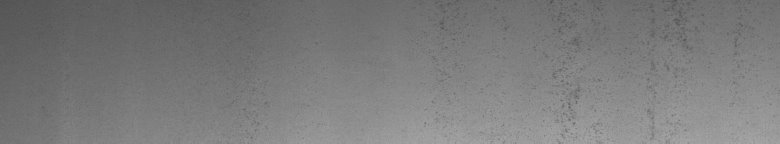ib: (553, 4, 737, 136)
